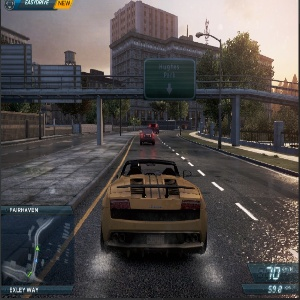building: (109, 9, 186, 128)
lamp post: (189, 25, 241, 154)
road sign: (143, 57, 195, 98)
tree: (211, 35, 267, 144), (103, 89, 130, 128)
vehicle: (137, 125, 157, 146), (149, 121, 167, 136)
